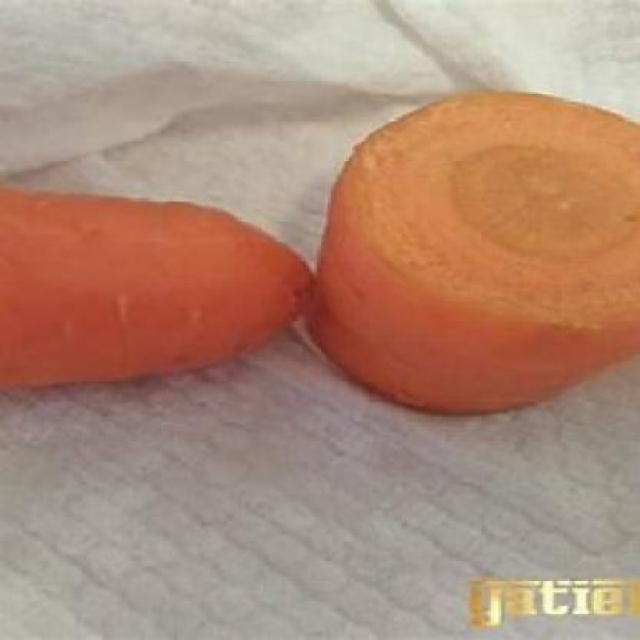carrot: (323, 69, 640, 442), (1, 161, 324, 414)
